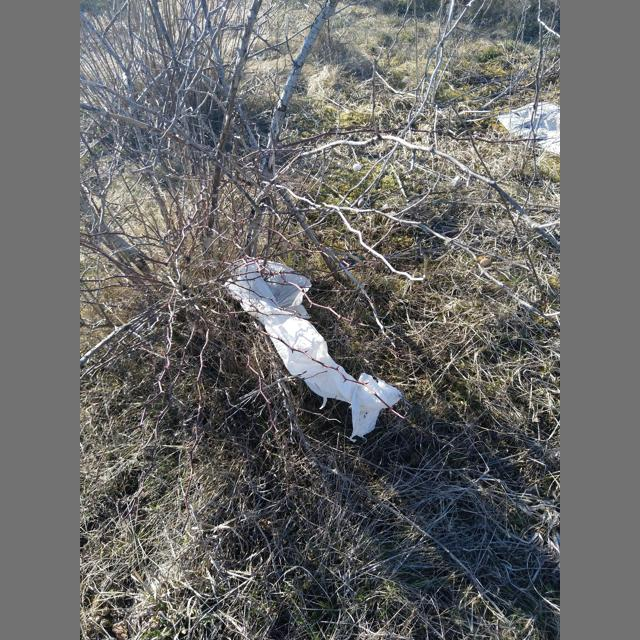litter: (224, 259, 403, 441), (496, 101, 559, 158)
